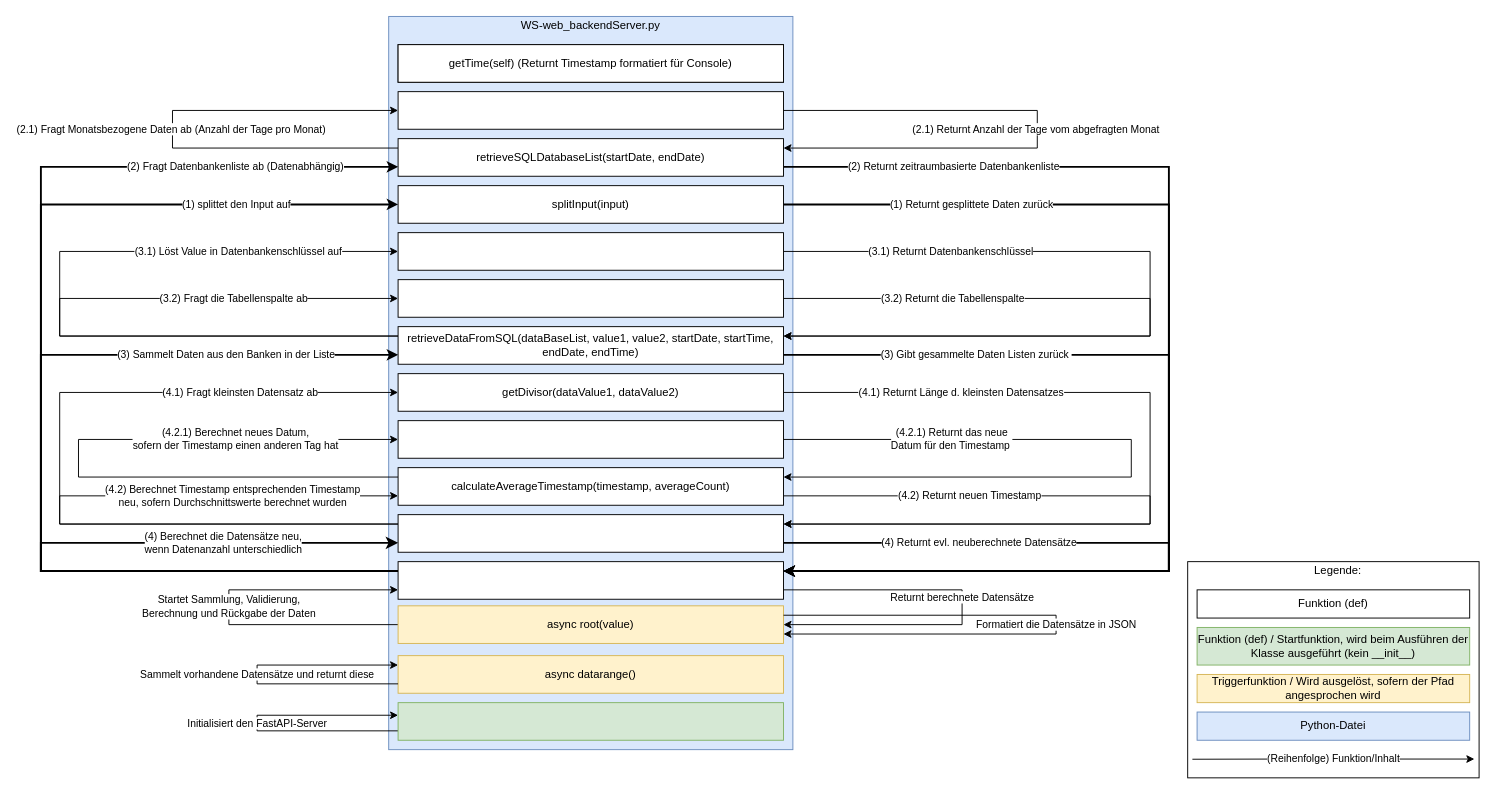
Image size: 1498x794. Some labels were removed from this diagram. Here are the shapes that lost their labels. From the top down, the box of each, then its label:
(397, 91, 783, 129): getDays(selectedMonth)
(397, 232, 783, 270): valueResolver(value)
(397, 279, 783, 317): columnSelector(value, table)
(397, 420, 783, 458): getNewDate(date, days)
(397, 514, 783, 552): calculateValues(dataValue1, dataValue2, value1, value2)
(397, 561, 783, 599): handleCalculation(imput)
(397, 702, 783, 740): serverInit()
